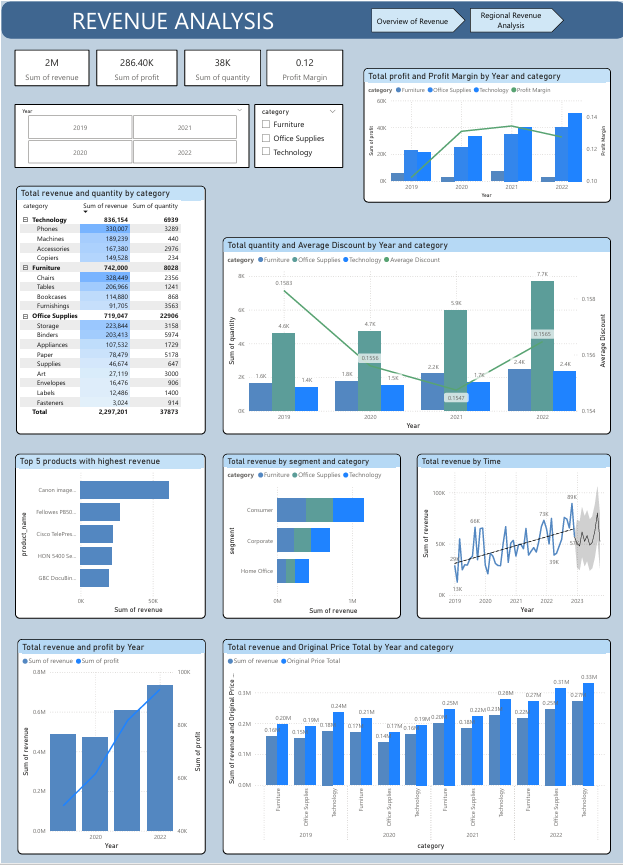

Layout of this report page (visuals, bound fields, positions):
{"tool":"powerbi","page":{"name":"Overview of Revenue","canvas":[1300,1800],"ordinal":0},"visuals":[{"type":"card","fields":{"Values":["Sum(Online Retail Store.revenue)"]},"box":[27.1,100,155.7,75.7],"z":0},{"type":"card","fields":{"Values":["Sum(Online Retail Store.profit)"]},"box":[197.1,100,168.6,75.7],"z":1000},{"type":"slicer","fields":{"Values":["Online Retail Store.Date.Variation.Date Hierarchy.Year"]},"box":[27.1,212.9,488.6,132.9],"z":2000},{"type":"card","fields":{"Values":["Sum(Online Retail Store.quantity)"]},"box":[380,100,160,75.7],"z":3000},{"type":"card","fields":{"Values":["Online Retail Store.Profit Margin"]},"box":[551.4,100,160,75.7],"z":4000},{"type":"clusteredBarChart","title":"Top 5 products with highest revenue ","fields":{"Y":["Sum(Online Retail Store.revenue)"],"Category":["Online Retail Store.product_name"]},"box":[27.5,940,397.5,342.5],"z":5000},{"type":"barChart","title":"Total revenue by segment and category","fields":{"Series":["Online Retail Store.category"],"Y":["Sum(Online Retail Store.revenue)"],"Category":["Online Retail Store.segment"]},"box":[41.4,1335.7,368.6,342.9],"z":6000},{"type":"pivotTable","title":"Total revenue and quantity by category","fields":{"Rows":["Online Retail Store.category","Online Retail Store.subcategory"],"Values":["Sum(Online Retail Store.revenue)","Sum(Online Retail Store.quantity)"]},"box":[30,382.5,395,517.5],"z":7000},{"type":"lineClusteredColumnComboChart","title":"Total profit and Profit Margin by Year and category","fields":{"Y2":["Online Retail Store.Profit Margin"],"Series":["Online Retail Store.category"],"Y":["Sum(Online Retail Store.profit)"],"Category":["Online Retail Store.Date.Variation.Date Hierarchy.Year"]},"box":[752.5,137.5,515,280],"z":8000},{"type":"slicer","fields":{"Values":["Online Retail Store.category"]},"box":[525.7,212.9,185.7,132.9],"z":9000},{"type":"shape","box":[0,0,1300,77.1],"z":10000},{"type":"textbox","box":[141.2,0,520,77.5],"z":11000},{"type":"pageNavigator","box":[770,13.8,400,50],"z":12000},{"type":"lineClusteredColumnComboChart","title":"Total revenue and profit by Year","fields":{"Y":["Sum(Online Retail Store.revenue)"],"Y2":["Sum(Online Retail Store.profit)"],"Category":["Online Retail Store.Date.Variation.Date Hierarchy.Year"]},"box":[32.5,1325,392.5,447.5],"z":13000},{"type":"clusteredColumnChart","title":"Total revenue and Original Price Total by Year and category","fields":{"Category":["Online Retail Store.Date.Variation.Date Hierarchy.Year","Online Retail Store.category"],"Y":["Sum(Online Retail Store.revenue)","DateTable.Original Price Total"]},"box":[460,1325,807.5,447.5],"z":14000},{"type":"lineClusteredColumnComboChart","title":"Total quantity and Average Discount by Year and category","fields":{"Category":["Online Retail Store.Date.Variation.Date Hierarchy.Year"],"Y":["Sum(Online Retail Store.quantity)"],"Series":["Online Retail Store.category"],"Y2":["Online Retail Store.Average Discount"]},"box":[460,490,807.5,410],"z":15000},{"type":"lineChart","title":"Total revenue by Time","fields":{"Y":["Sum(Online Retail Store.revenue)"],"Category":["Online Retail Store.Date.Variation.Date Hierarchy.Year","Online Retail Store.Date.Variation.Date Hierarchy.Month"]},"box":[863.8,940,403.8,342.5],"z":16000},{"type":"barChart","title":"Total revenue by segment and category","fields":{"Y":["Sum(Online Retail Store.revenue)"],"Category":["Online Retail Store.segment"],"Series":["Online Retail Store.category"]},"box":[460,940,371.4,342.9],"z":17000}]}

Visuals, with their boxes in screenshot pixels (x1, y1, x2, y2), scaled from the page's 1300x1800 canvas onto the 623x865 screenshot:
card - Sum(Online Retail Store.revenue): select_region(13, 48, 88, 84)
card - Sum(Online Retail Store.profit): select_region(94, 48, 175, 84)
slicer - Online Retail Store.Date.Variation.Date Hierarchy.Year: select_region(13, 102, 247, 166)
card - Sum(Online Retail Store.quantity): select_region(182, 48, 259, 84)
card - Online Retail Store.Profit Margin: select_region(264, 48, 341, 84)
"Top 5 products with highest revenue " clusteredBarChart: select_region(13, 452, 204, 616)
"Total revenue by segment and category" barChart: select_region(20, 642, 196, 807)
"Total revenue and quantity by category" pivotTable: select_region(14, 184, 204, 432)
"Total profit and Profit Margin by Year and category" lineClusteredColumnComboChart: select_region(361, 66, 607, 201)
slicer - Online Retail Store.category: select_region(252, 102, 341, 166)
shape: select_region(0, 0, 622, 37)
textbox: select_region(68, 0, 317, 37)
pageNavigator: select_region(369, 7, 561, 31)
"Total revenue and profit by Year" lineClusteredColumnComboChart: select_region(16, 637, 204, 852)
"Total revenue and Original Price Total by Year and category" clusteredColumnChart: select_region(220, 637, 607, 852)
"Total quantity and Average Discount by Year and category" lineClusteredColumnComboChart: select_region(220, 235, 607, 432)
"Total revenue by Time" lineChart: select_region(414, 452, 607, 616)
"Total revenue by segment and category" barChart: select_region(220, 452, 398, 617)
